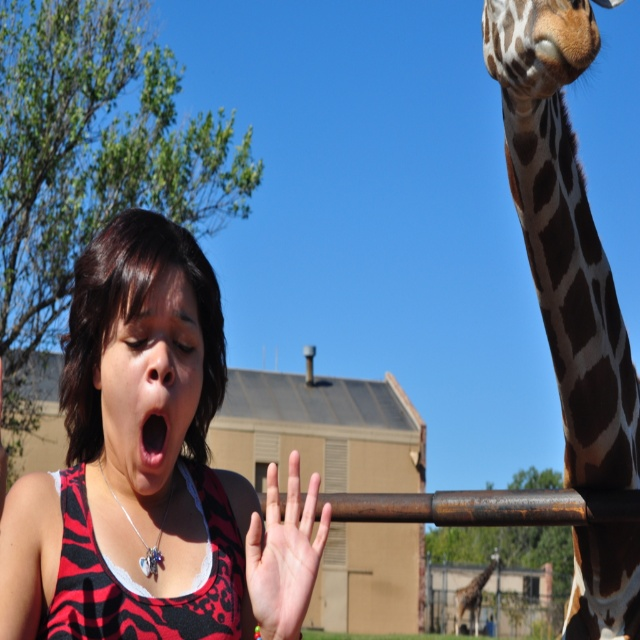Giraffe: (480, 0, 640, 635)
